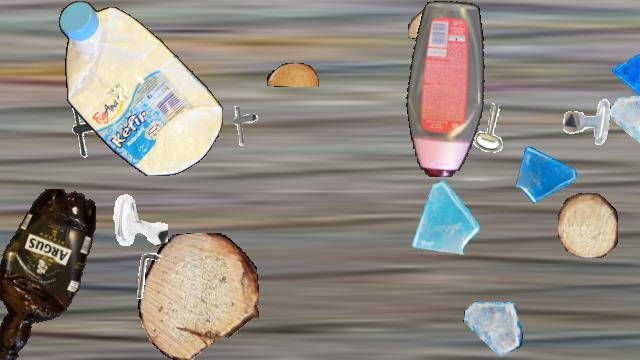glass: (401, 179, 481, 259), (513, 140, 579, 206), (463, 299, 523, 359), (610, 93, 640, 153), (612, 46, 640, 102)
metal: (61, 99, 121, 159), (110, 191, 168, 249), (465, 100, 521, 156), (123, 249, 177, 303), (562, 97, 614, 149), (221, 103, 265, 147), (0, 299, 25, 355)
plastic: (59, 1, 223, 175), (0, 189, 103, 359), (405, 1, 489, 177)
wood: (138, 233, 258, 359), (558, 193, 618, 257), (408, 9, 482, 41), (267, 63, 319, 87)
